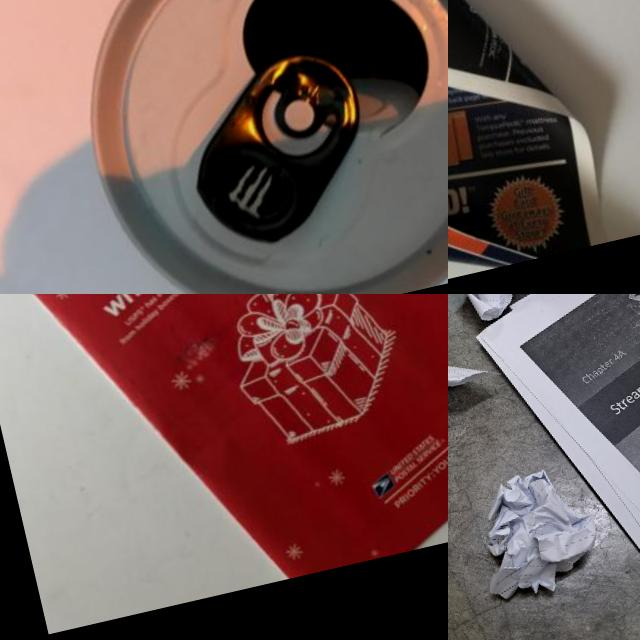aba de lata: (170, 40, 386, 261)
lata: (47, 0, 448, 294)
papel: (0, 294, 448, 619), (455, 294, 640, 640), (448, 0, 614, 294), (464, 460, 606, 604), (448, 328, 506, 503), (448, 294, 603, 332)
